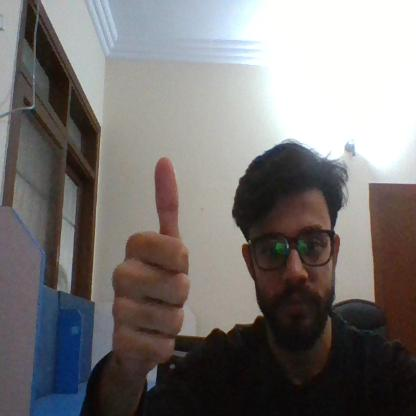thumbs-up: (99, 149, 199, 363)
